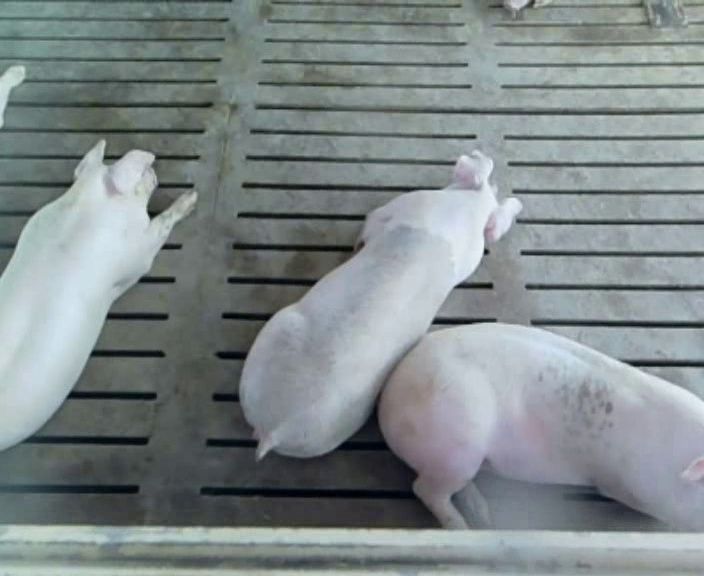pig: (239, 151, 521, 458), (382, 325, 703, 529), (0, 141, 196, 450)
